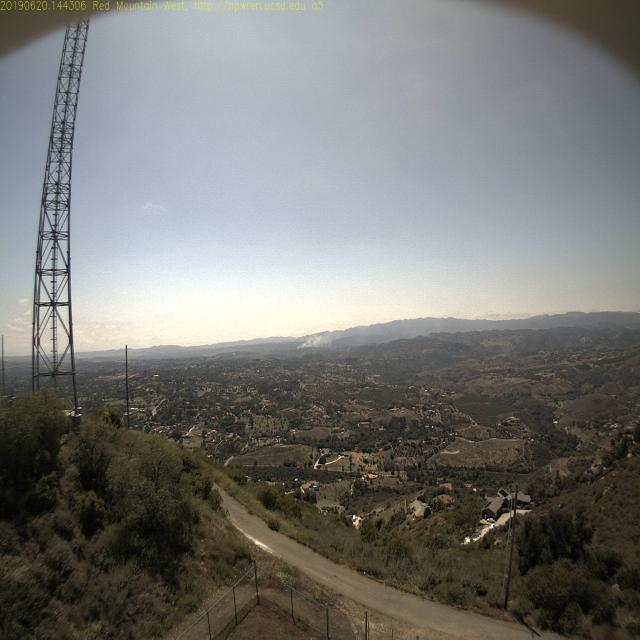smoke: (295, 326, 320, 357)
